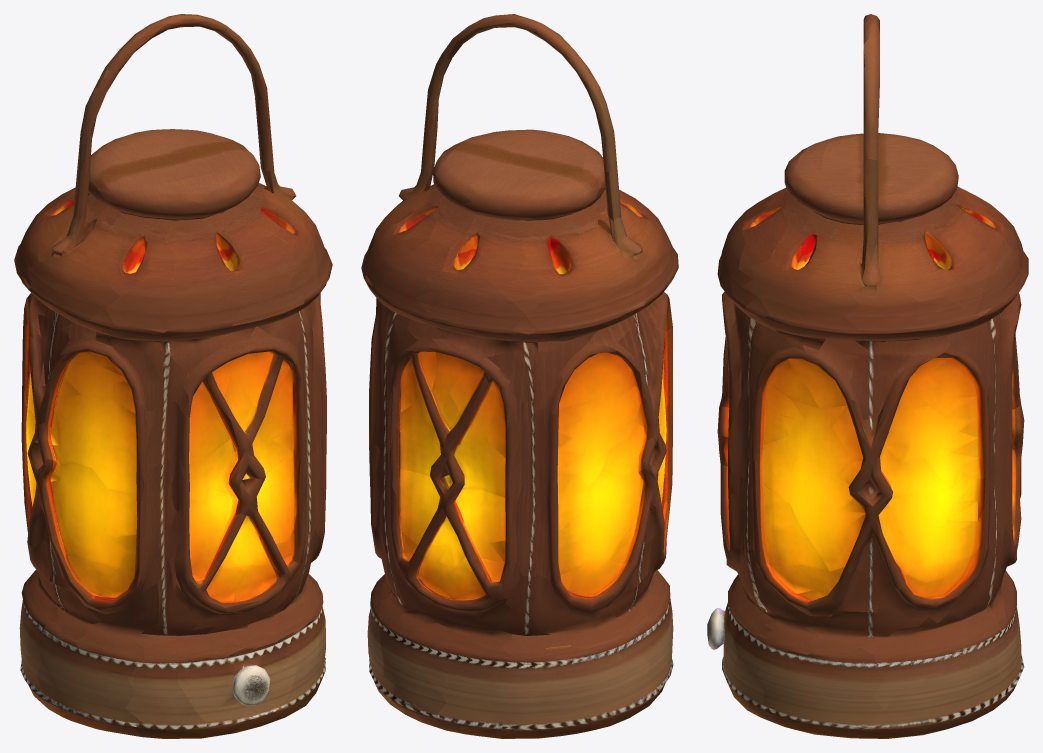
The model's file is s1_quality_lantern_hang.glb.
3 renders of one model, left to right at view 1: azimuth 30°, elevation 25°; view 2: azimuth 150°, elevation 25°; view 3: azimuth 270°, elevation 25°, orthographic.
Bounding box in the file's own units: 0.8258 × 1.91 × 0.8454.
Materials: 1 (1 with a texture image).
